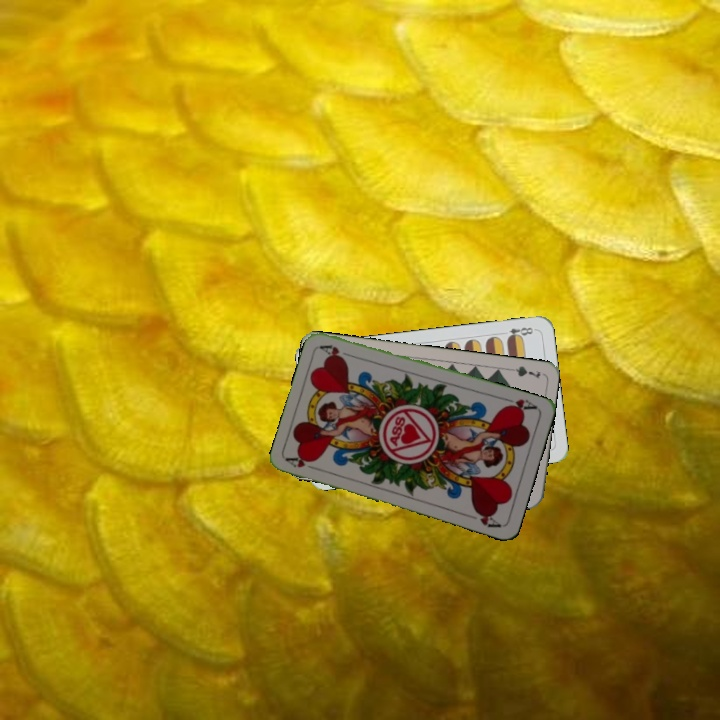E8: (503, 323, 538, 342)
G7: (503, 362, 543, 381)
HA: (283, 451, 323, 474), (499, 393, 540, 415)
